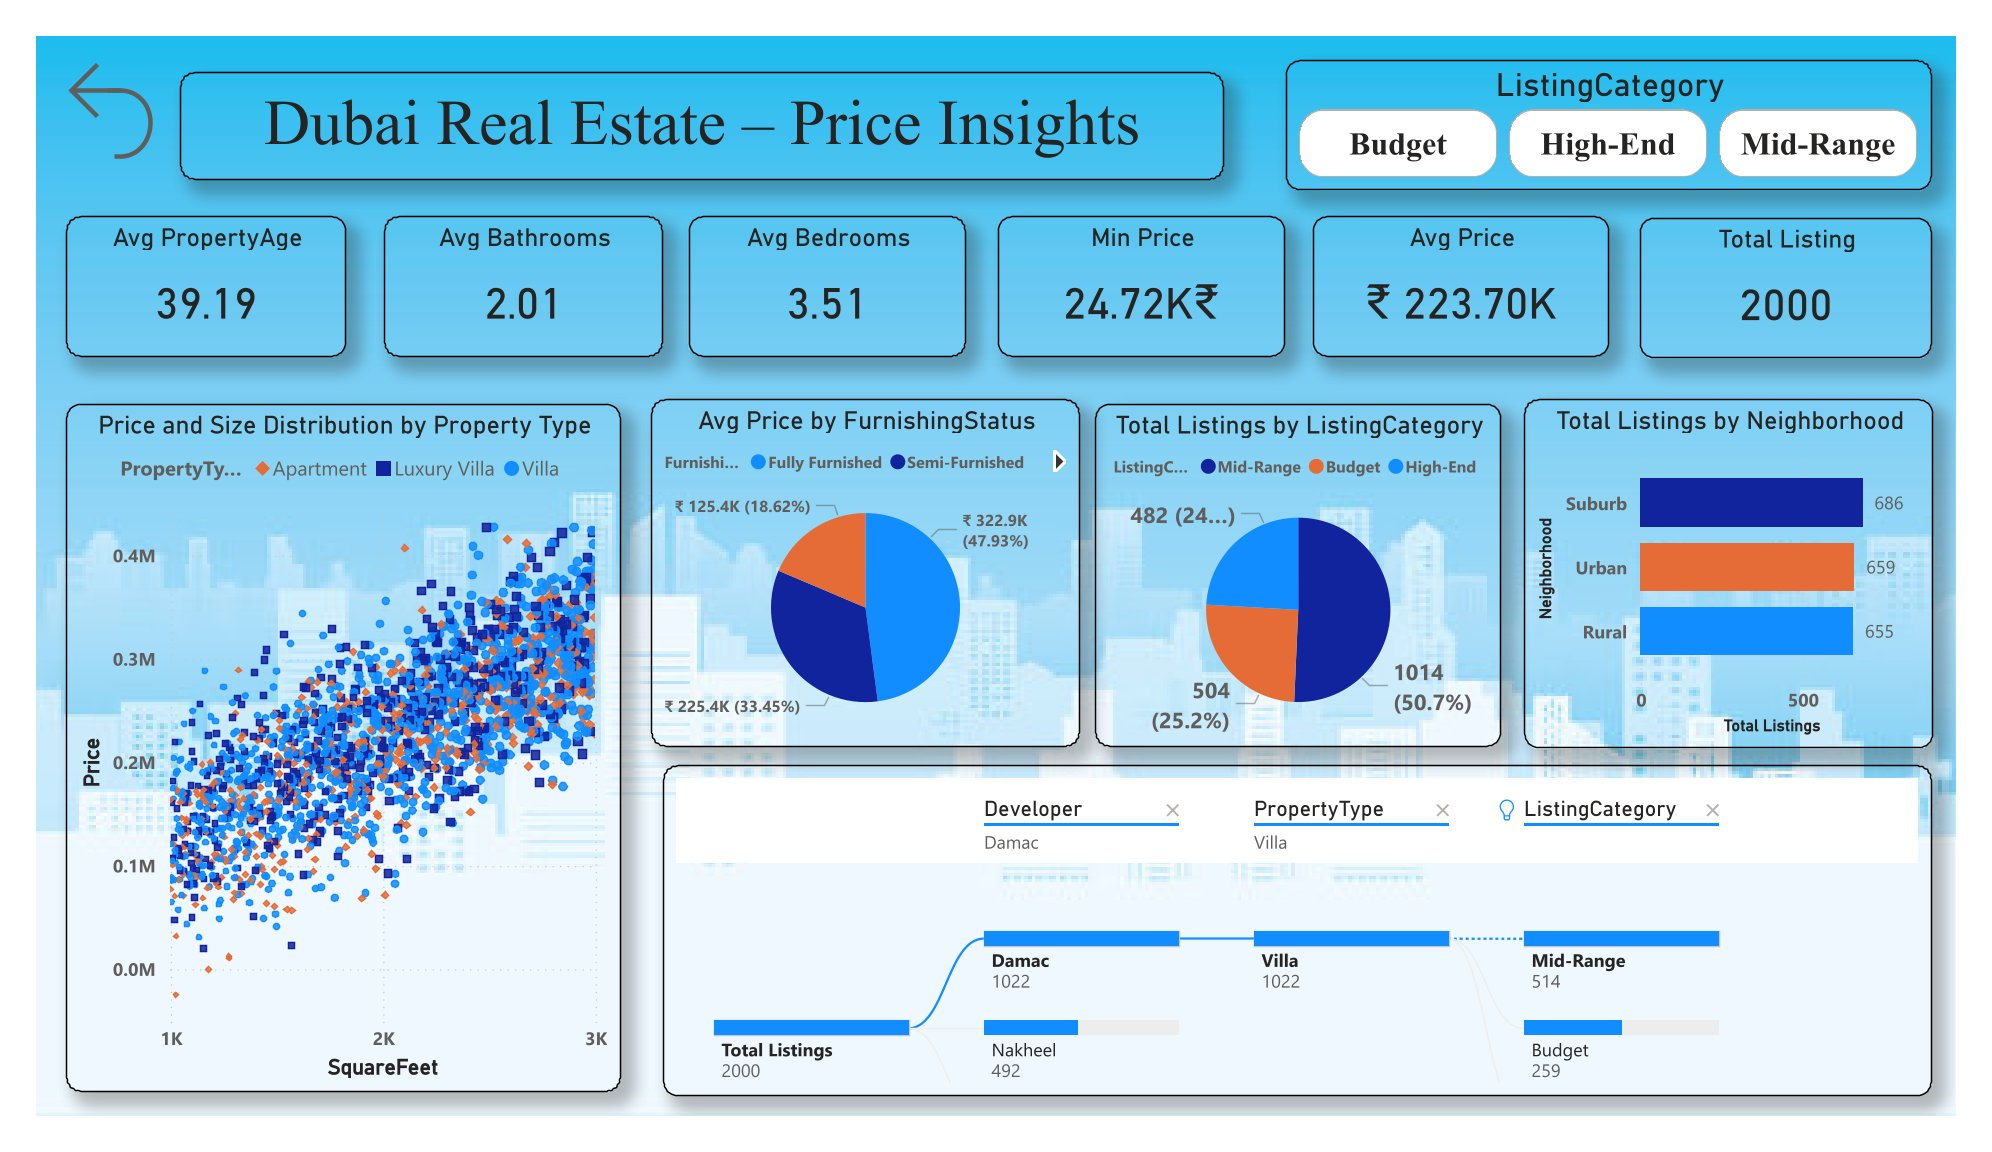

Layout of this report page (visuals, bound fields, positions):
{"tool":"powerbi","page":{"name":"Insights","canvas":[1280,720],"ordinal":2},"visuals":[{"type":"image","box":[0,0,1280.3,720.2],"z":0},{"type":"actionButton","box":[10,10,80,80],"z":1000},{"type":"textbox","box":[96,24,696,72],"z":2000},{"type":"card","title":"Avg PropertyAge","fields":{"Values":["Avg(housing_price_dataset.PropertyAge)"]},"box":[19.6,119.8,187.1,94.2],"z":3000},{"type":"card","title":"Avg Bathrooms","fields":{"Values":["Avg(housing_price_dataset.Bathrooms)"]},"box":[232.3,119.8,185.9,94.2],"z":4000},{"type":"card","title":"Avg Bedrooms","fields":{"Values":["Avg(housing_price_dataset.Bedrooms)"]},"box":[435.3,119.8,184.6,94.2],"z":5000},{"type":"advancedSlicerVisual","fields":{"Values":["housing_price_dataset.ListingCategory"]},"box":[832.7,15.9,431.7,86.8],"z":6000},{"type":"scatterChart","title":"Price and Size Distribution by Property Type","fields":{"X":["housing_price_dataset.SquareFeet"],"Y":["housing_price_dataset.Price"],"Size":["Sum(housing_price_dataset.SquareFeet)1"],"Series":["housing_price_dataset.PropertyType"]},"box":[19.6,244.6,370.5,459.8],"z":7000},{"type":"barChart","fields":{"Category":["housing_price_dataset.Neighborhood"],"Y":["housing_price_dataset.Avg Price"]},"box":[991.7,241.7,273.6,233.3],"z":8000},{"type":"pieChart","fields":{"Category":["housing_price_dataset.ListingCategory"],"Y":["housing_price_dataset.Avg Price"]},"box":[705.6,244.6,271.5,229.9],"z":9000},{"type":"decompositionTreeVisual","fields":{"ExplainBy":["housing_price_dataset.Developer","housing_price_dataset.PropertyType","housing_price_dataset.ListingCategory"],"Analyze":["housing_price_dataset.Total Listings"]},"box":[418.1,486.1,845.8,220.8],"z":10000},{"type":"card","title":"Min Price","fields":{"Values":["Min(housing_price_dataset.Price)"]},"box":[640.8,119.8,192,94.2],"z":11000},{"type":"card","title":"Avg Price","fields":{"Values":["housing_price_dataset.Avg Price"]},"box":[851.1,119.8,198.1,94.2],"z":12000},{"type":"card","title":"Total Listing","fields":{"Values":["housing_price_dataset.Total Listings"]},"box":[1068.8,121.1,195.7,94.2],"z":13000},{"type":"pieChart","fields":{"Category":["housing_price_dataset.FurnishingStatus"],"Y":["housing_price_dataset.Avg Price"]},"box":[409.6,242.1,286.1,232.3],"z":15000}]}

Visuals, with their boxes in screenshot pixels (x1, y1, x2, y2), scaled from the page's 1280x720 canvas onto the 1992x1152 screenshot:
image: x1=0, y1=0, x2=1991, y2=1151
actionButton: x1=16, y1=16, x2=140, y2=144
textbox: x1=149, y1=38, x2=1233, y2=154
"Avg PropertyAge" card: x1=31, y1=192, x2=322, y2=342
"Avg Bathrooms" card: x1=362, y1=192, x2=651, y2=342
"Avg Bedrooms" card: x1=677, y1=192, x2=965, y2=342
advancedSlicerVisual - housing_price_dataset.ListingCategory: x1=1296, y1=25, x2=1968, y2=164
"Price and Size Distribution by Property Type" scatterChart: x1=31, y1=391, x2=607, y2=1127
barChart - housing_price_dataset.Neighborhood x housing_price_dataset.Avg Price: x1=1543, y1=387, x2=1969, y2=760
pieChart - housing_price_dataset.ListingCategory x housing_price_dataset.Avg Price: x1=1098, y1=391, x2=1521, y2=759
decompositionTreeVisual - housing_price_dataset.Developer x housing_price_dataset.PropertyType: x1=651, y1=778, x2=1967, y2=1131
"Min Price" card: x1=997, y1=192, x2=1296, y2=342
"Avg Price" card: x1=1325, y1=192, x2=1633, y2=342
"Total Listing" card: x1=1663, y1=194, x2=1968, y2=344
pieChart - housing_price_dataset.FurnishingStatus x housing_price_dataset.Avg Price: x1=637, y1=387, x2=1083, y2=759
